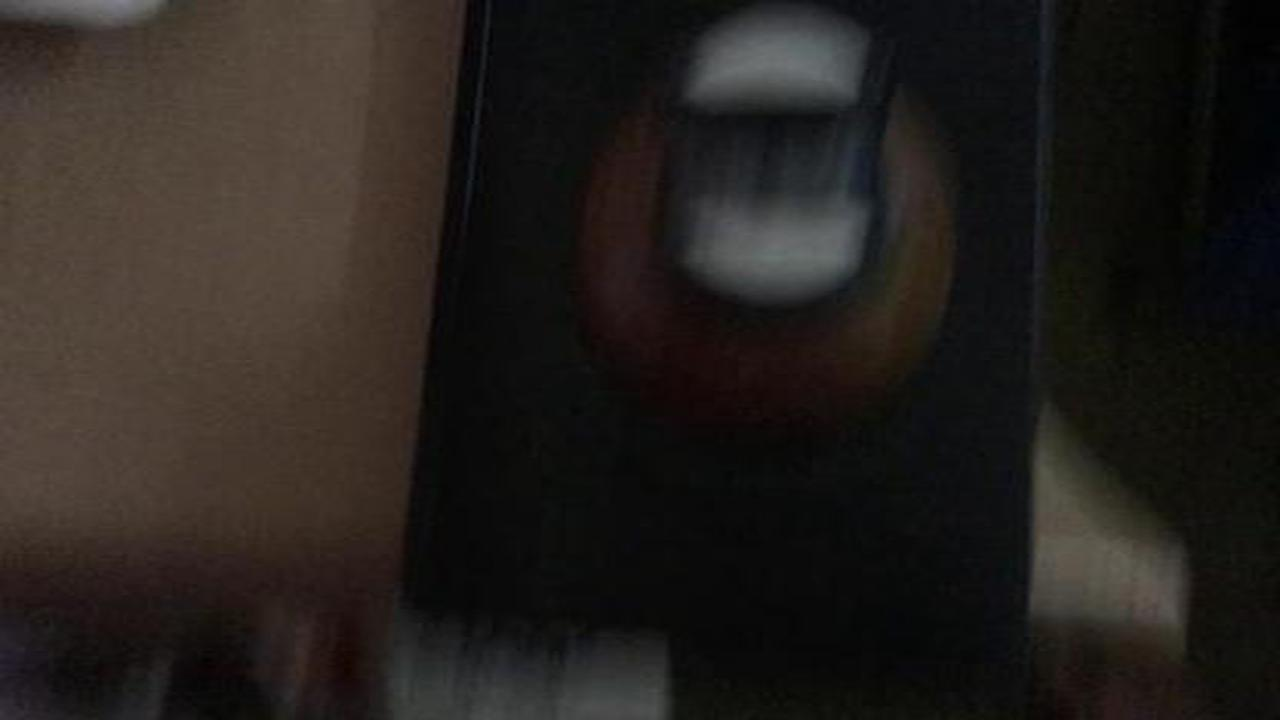insulator_pin: (557, 23, 994, 447)
